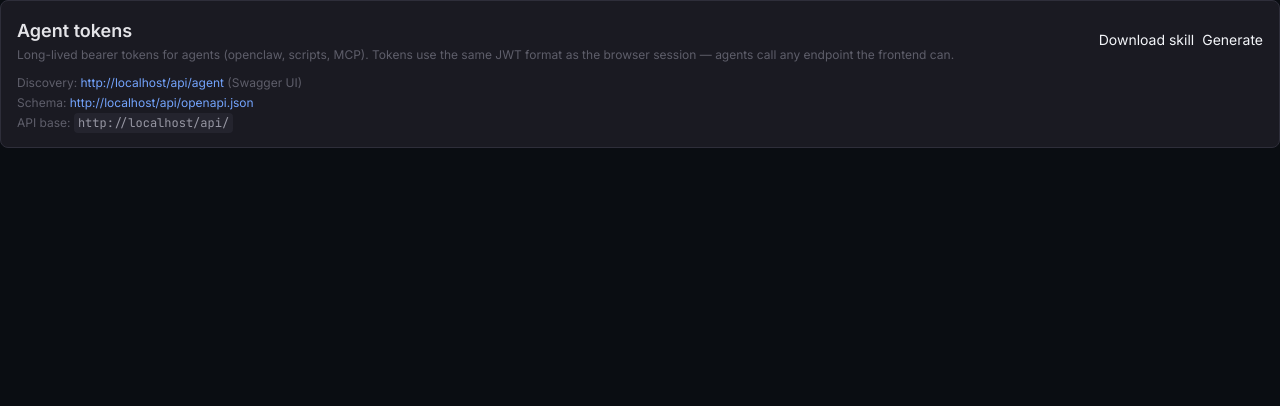
AgentTokenSection › mints a token using the session JWT and shows it with a copy button
Step 1. Click the button "Generate" → coordinates (1233, 40), box [1202, 30, 1263, 50]
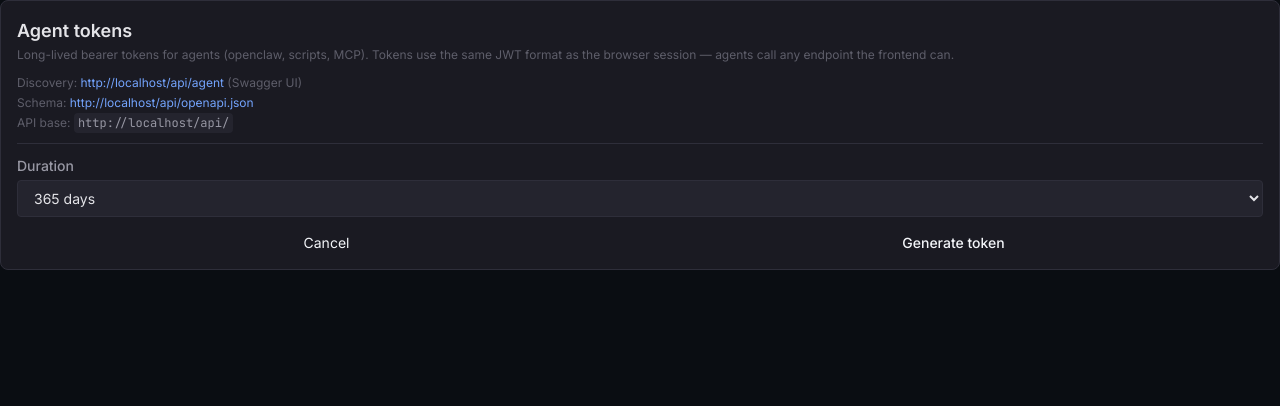
Step 2. Select "90 days" in the dropdown labelled "Duration" → coordinates (640, 198), box [17, 180, 1263, 217]
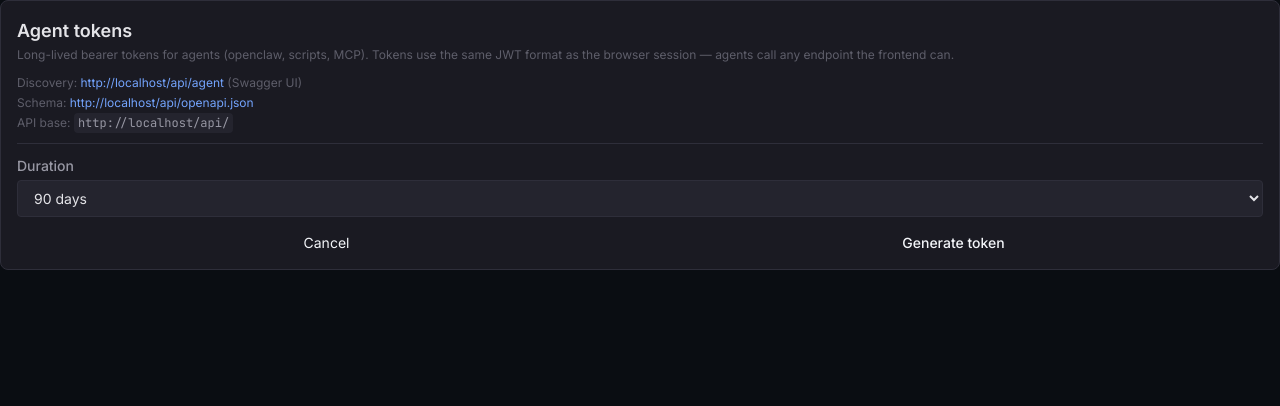
Step 3. Click the button "Generate token" → coordinates (954, 243), box [644, 233, 1263, 253]
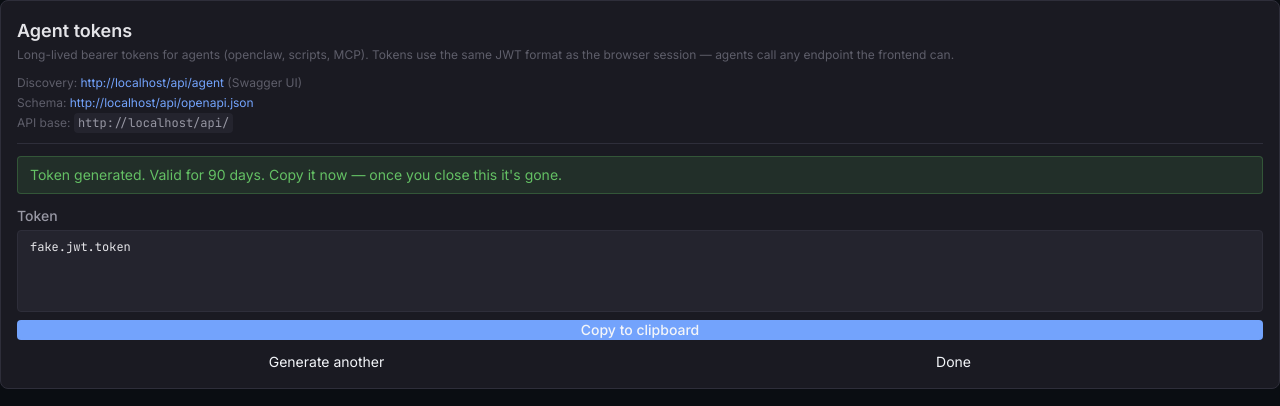
Expected: the text "Valid for 90 days" is shown, [17, 156, 1263, 194]
Expected: the text box holds "fake.jwt.token", [17, 230, 1263, 312]
Expected: the button "Copy to clipboard" is shown, [17, 320, 1263, 340]
